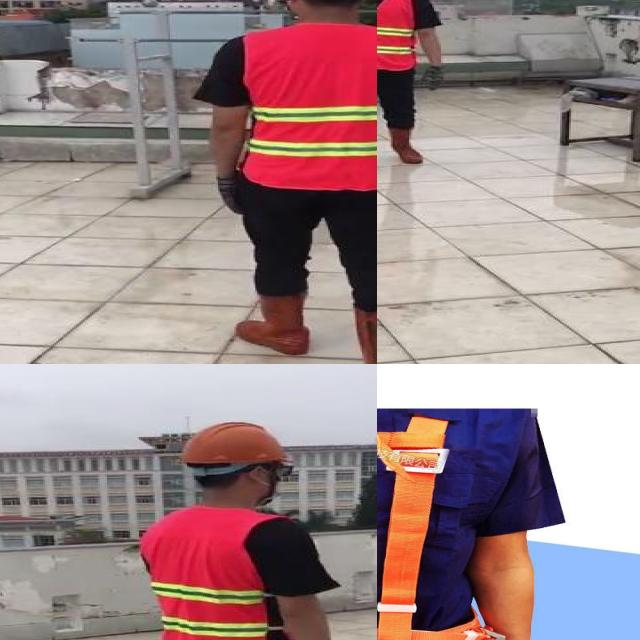Harness: (377, 413, 469, 640)
boots: (236, 293, 314, 356), (388, 125, 423, 164), (355, 304, 377, 364)
hand_glove: (218, 175, 246, 214), (422, 64, 444, 91)
head_helmet: (176, 418, 294, 468)
person: (180, 0, 377, 364), (131, 418, 350, 640), (377, 0, 449, 178)
vest: (241, 25, 377, 193), (144, 504, 284, 640), (377, 0, 417, 69)
